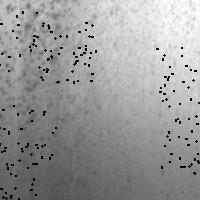pitted_surface: (1, 1, 103, 135), (117, 1, 195, 54), (35, 22, 95, 81), (0, 105, 55, 163), (0, 11, 51, 70), (156, 46, 200, 105), (161, 115, 200, 175), (0, 143, 35, 200)
